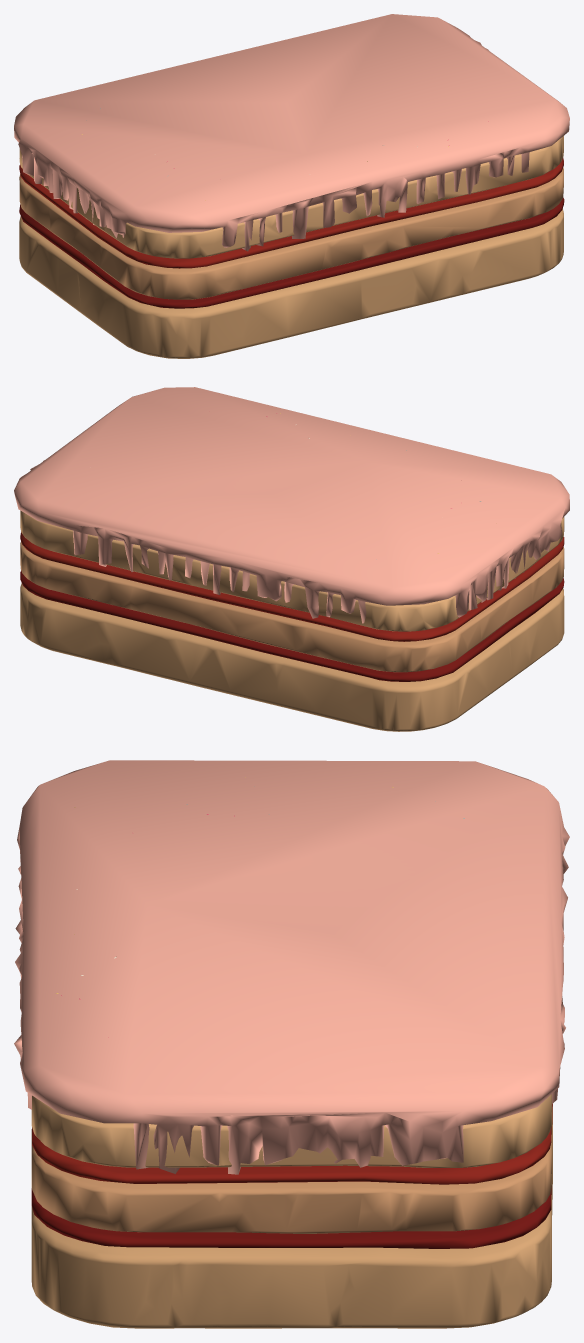
The model's file is cake-mesa-worn-lod.glb.
3 renders of one model, top to bottom at view 1: azimuth 30°, elevation 25°; view 2: azimuth 150°, elevation 25°; view 3: azimuth 270°, elevation 25°, orthographic. The views are drawn at different scales.
Visible parts, largest first — view 1: Rounded poured strawberry frosting.002 low candidate, Golden sponge bottom.002 low candidate, Golden sponge lower.002 low candidate, Golden sponge upper.002 low candidate, Raspberry jam deep.002 low candidate, Raspberry jam ribbon.002 low candidate; view 2: Rounded poured strawberry frosting.002 low candidate, Golden sponge bottom.002 low candidate, Golden sponge lower.002 low candidate, Golden sponge upper.002 low candidate, Raspberry jam deep.002 low candidate, Raspberry jam ribbon.002 low candidate; view 3: Rounded poured strawberry frosting.002 low candidate, Golden sponge bottom.002 low candidate, Golden sponge lower.002 low candidate, Golden sponge upper.002 low candidate, Raspberry jam deep.002 low candidate, Raspberry jam ribbon.002 low candidate.
Boxes of the visible parts, bbox=[...] form: Rounded poured strawberry frosting.002 low candidate: bbox=[14, 14, 569, 251]; Golden sponge bottom.002 low candidate: bbox=[19, 209, 563, 358]; Golden sponge lower.002 low candidate: bbox=[19, 167, 563, 299]; Golden sponge upper.002 low candidate: bbox=[19, 136, 563, 258]; Raspberry jam deep.002 low candidate: bbox=[19, 198, 564, 308]; Raspberry jam ribbon.002 low candidate: bbox=[19, 158, 563, 268]; Rounded poured strawberry frosting.002 low candidate: bbox=[14, 387, 569, 623]; Golden sponge bottom.002 low candidate: bbox=[20, 583, 564, 731]; Golden sponge lower.002 low candidate: bbox=[20, 541, 564, 672]; Golden sponge upper.002 low candidate: bbox=[20, 510, 564, 631]; Raspberry jam deep.002 low candidate: bbox=[20, 570, 564, 681]; Raspberry jam ribbon.002 low candidate: bbox=[20, 532, 564, 641]; Rounded poured strawberry frosting.002 low candidate: bbox=[14, 760, 569, 1174]; Golden sponge bottom.002 low candidate: bbox=[31, 1103, 552, 1328]; Golden sponge lower.002 low candidate: bbox=[31, 1112, 551, 1233]; Golden sponge upper.002 low candidate: bbox=[31, 1094, 551, 1167]; Raspberry jam deep.002 low candidate: bbox=[31, 1104, 552, 1248]; Raspberry jam ribbon.002 low candidate: bbox=[32, 1126, 551, 1184].
Size of the model in its own units: 13.19 by 4.2 by 8.73.
